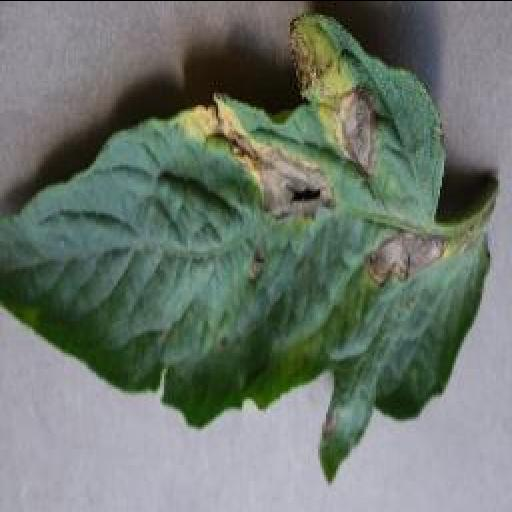Early Blight: (2, 17, 488, 478)
